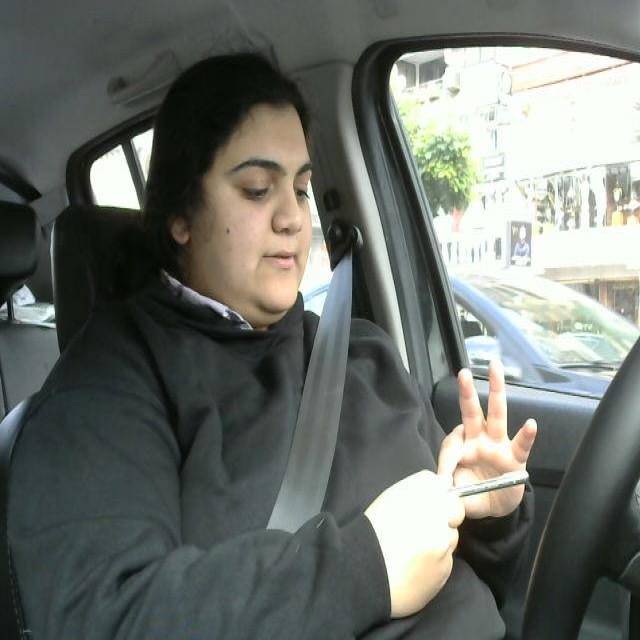mobile use: (421, 465, 536, 514)
